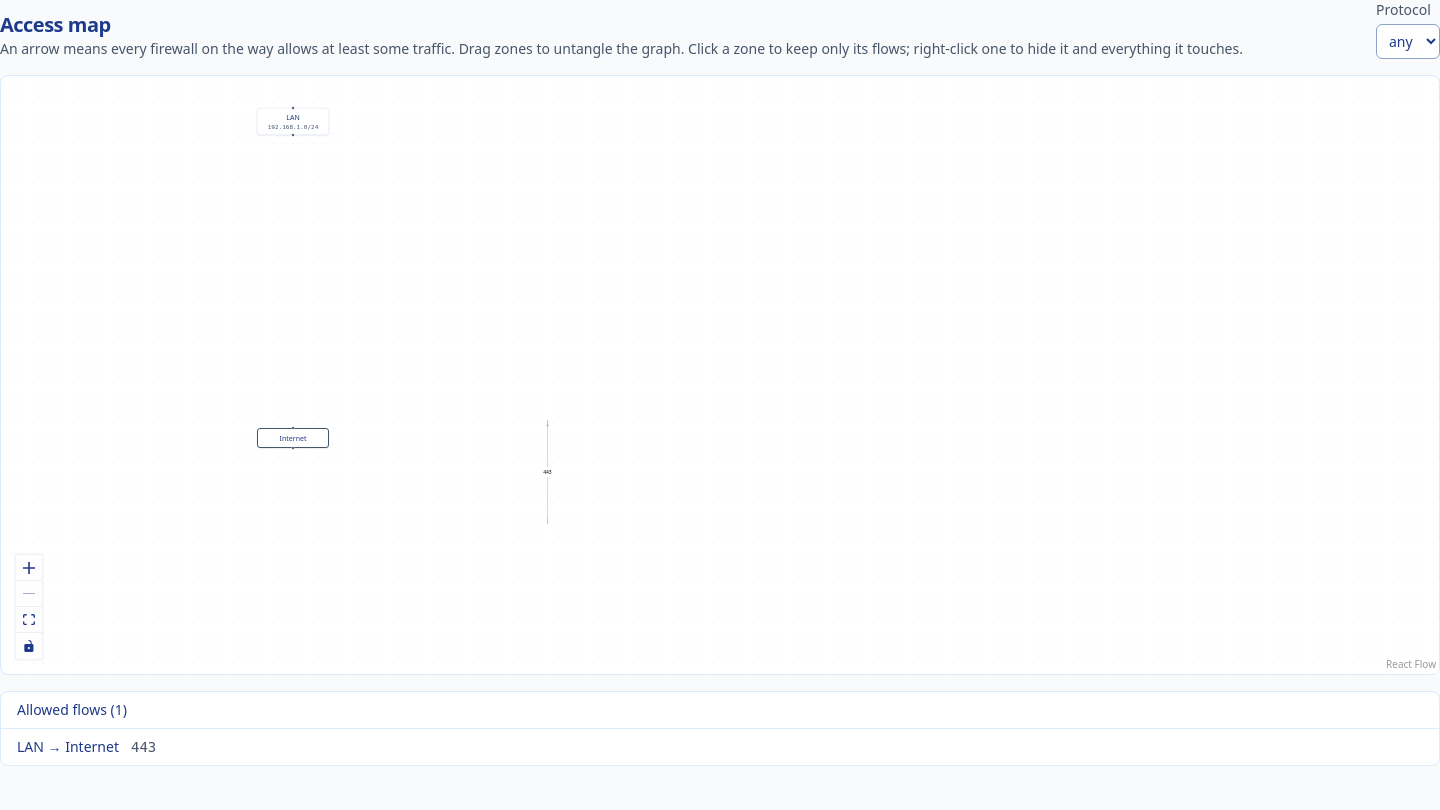
Test: AccessMapPage › lists the rules behind an edge when it is clicked
Click the text "443" at coordinates (144, 747), box [131, 737, 156, 757]
(page scrolled)
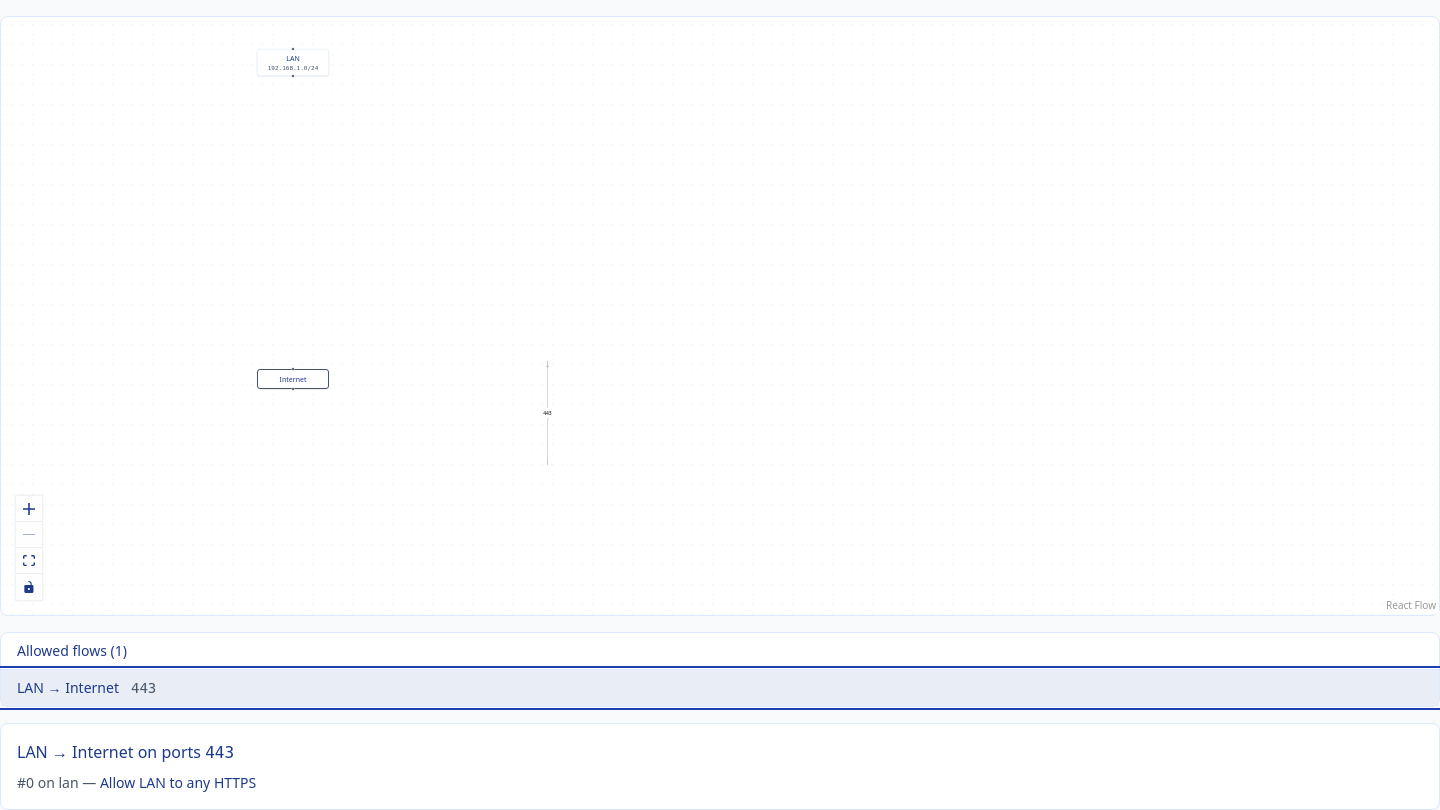
Expected: the list item "#0 on lan — Allow LAN to any HTTPS" is shown, [17, 773, 256, 792]
